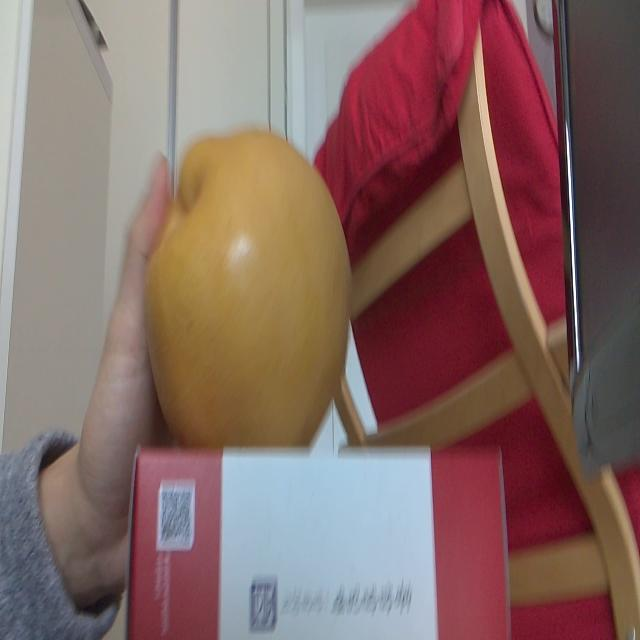pear: (143, 125, 352, 448)
